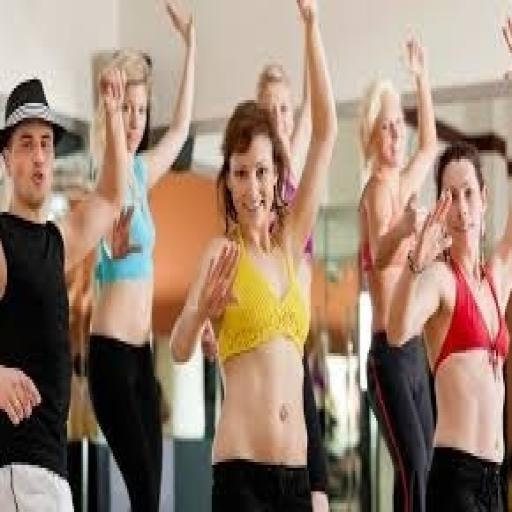dancing: (168, 0, 340, 509), (385, 12, 510, 509), (80, 0, 200, 509), (0, 59, 131, 509), (353, 29, 445, 509)
